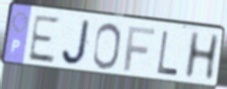E: (26, 13, 61, 65)
F: (122, 25, 157, 74)
H: (182, 30, 222, 82)
J: (60, 19, 93, 68)
L: (156, 30, 180, 78)
O: (91, 21, 122, 71)
